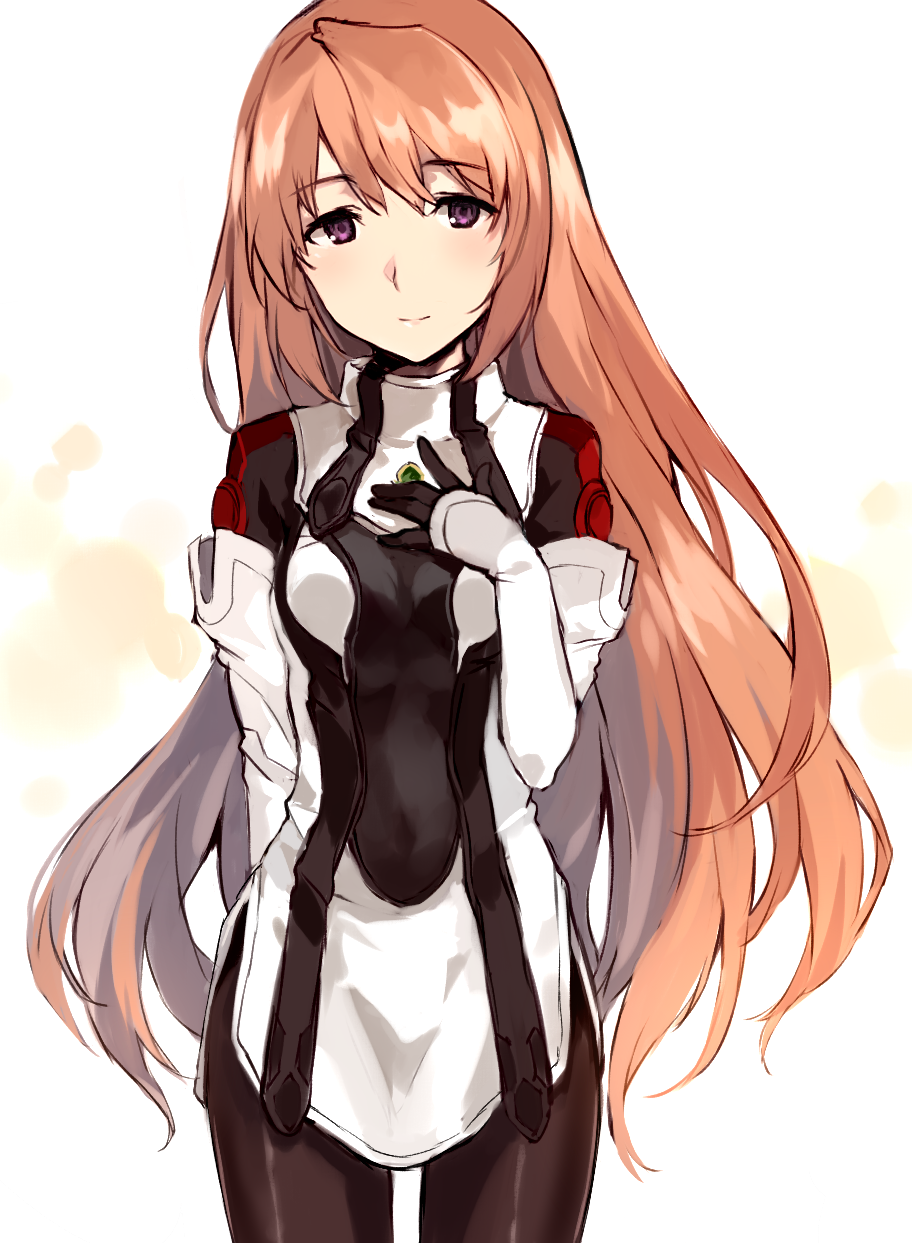纸片人正脸: (211, 16, 586, 384)
